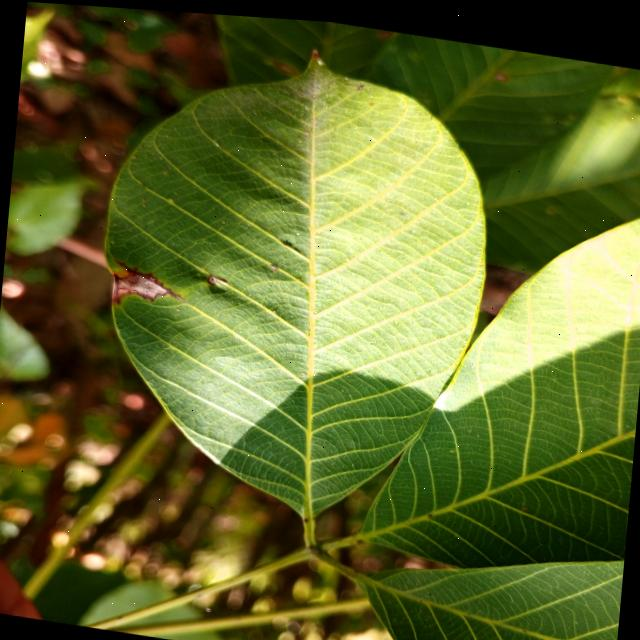Corynespora: (110, 257, 190, 313)
Leaf-Blight: (118, 270, 168, 298)
